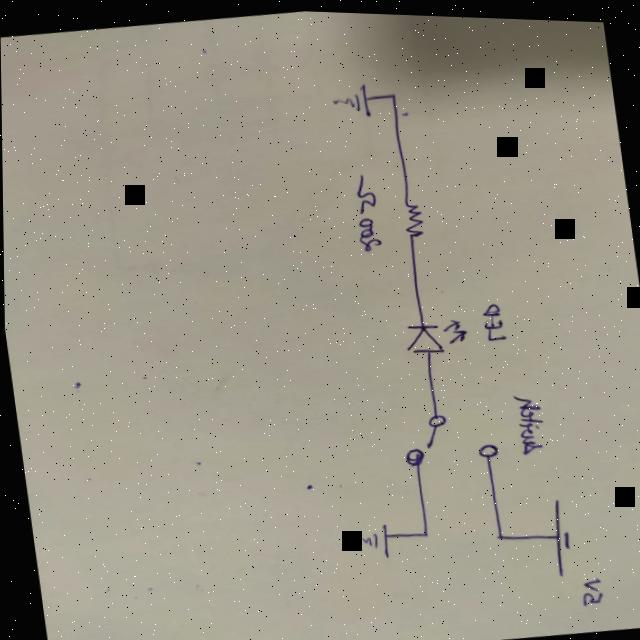diode: (400, 312, 469, 355)
ground: (342, 520, 390, 559), (330, 81, 373, 118)
junction: (490, 526, 505, 541), (414, 525, 429, 538), (384, 88, 400, 100)
resistor: (402, 193, 426, 239)
source: (545, 496, 577, 574)
switch: (397, 402, 498, 468)
text: (349, 169, 382, 250), (514, 391, 544, 452), (576, 570, 604, 604), (481, 300, 505, 339)
